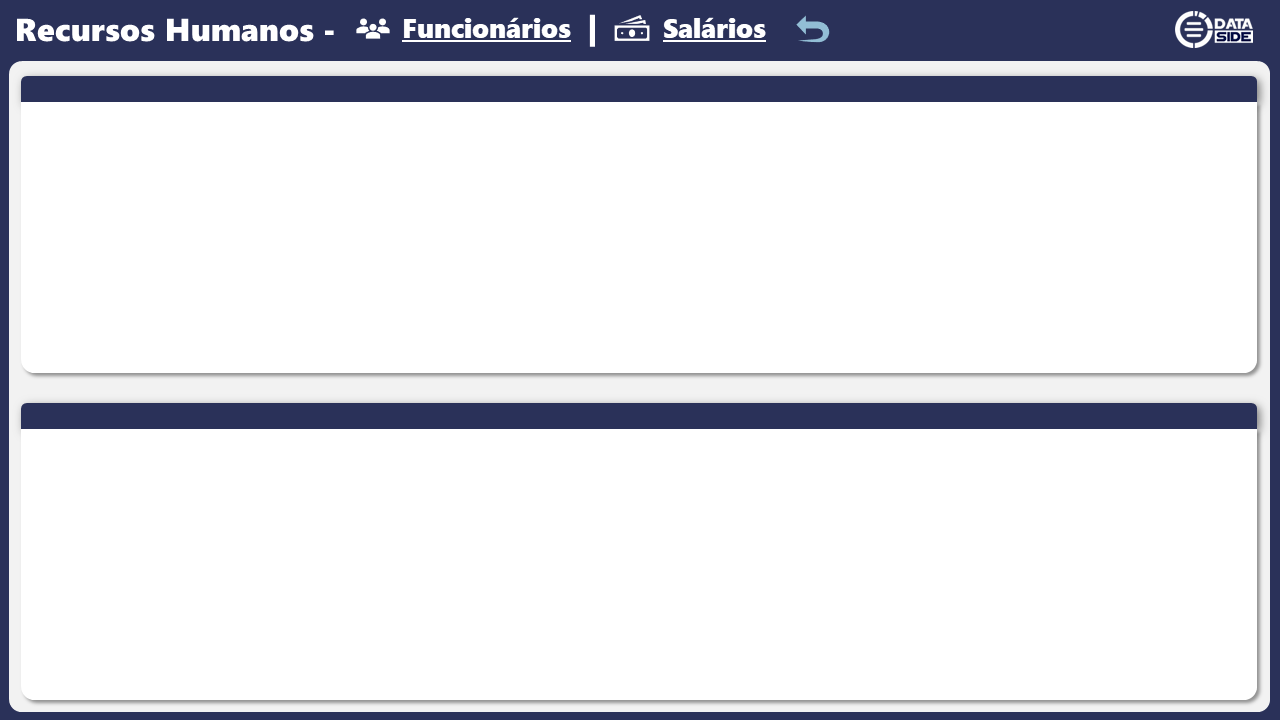

The dashboard page shown, as its layout file describes it:
{"tool":"powerbi","page":{"name":"RH - Admissões e Desligamentos","canvas":[1280,720],"ordinal":3},"visuals":[{"type":"actionButton","box":[350,2,230,50],"z":0},{"type":"actionButton","box":[605,2,170,50],"z":1000},{"type":"tableEx","fields":{"Values":["Funcionarios.ID","Funcionarios.Nome do Colaborador","Funcionarios.Data Nascimento","Funcionarios.Gênero","Funcionarios.Escolaridade","Funcionarios.Setor","Funcionarios.Cargo","Funcionarios.Salario","Funcionarios.Data de Admissão"]},"box":[20.4,98,1240,270],"z":2000},{"type":"textbox","box":[20,71,1240.1,29.8],"z":3000},{"type":"tableEx","fields":{"Values":["Funcionarios.ID","Funcionarios.Nome do Colaborador","Funcionarios.Data Nascimento","Funcionarios.Gênero","Funcionarios.Escolaridade","Funcionarios.Setor","Funcionarios.Cargo","Funcionarios.Salario","Funcionarios.Data de Desligamento","Funcionarios.Tipo de Desligamento"]},"box":[20.4,425,1240,270],"z":4000},{"type":"textbox","box":[20,399,1240.5,29.3],"z":5000},{"type":"actionButton","box":[785,2,60,50],"z":6000}]}

Visuals, with their boxes on the page's 1280x720 design canvas (x1, y1, x2, y2). These are canvas units, not pixel positions in the 1280x720 screenshot, which may show the page scaled, cropped or inside an application window:
actionButton: Rect(350, 2, 580, 52)
actionButton: Rect(605, 2, 775, 52)
tableEx - Funcionarios.ID x Funcionarios.Nome do Colaborador: Rect(20, 98, 1260, 368)
textbox: Rect(20, 71, 1260, 101)
tableEx - Funcionarios.ID x Funcionarios.Nome do Colaborador: Rect(20, 425, 1260, 695)
textbox: Rect(20, 399, 1260, 428)
actionButton: Rect(785, 2, 845, 52)
